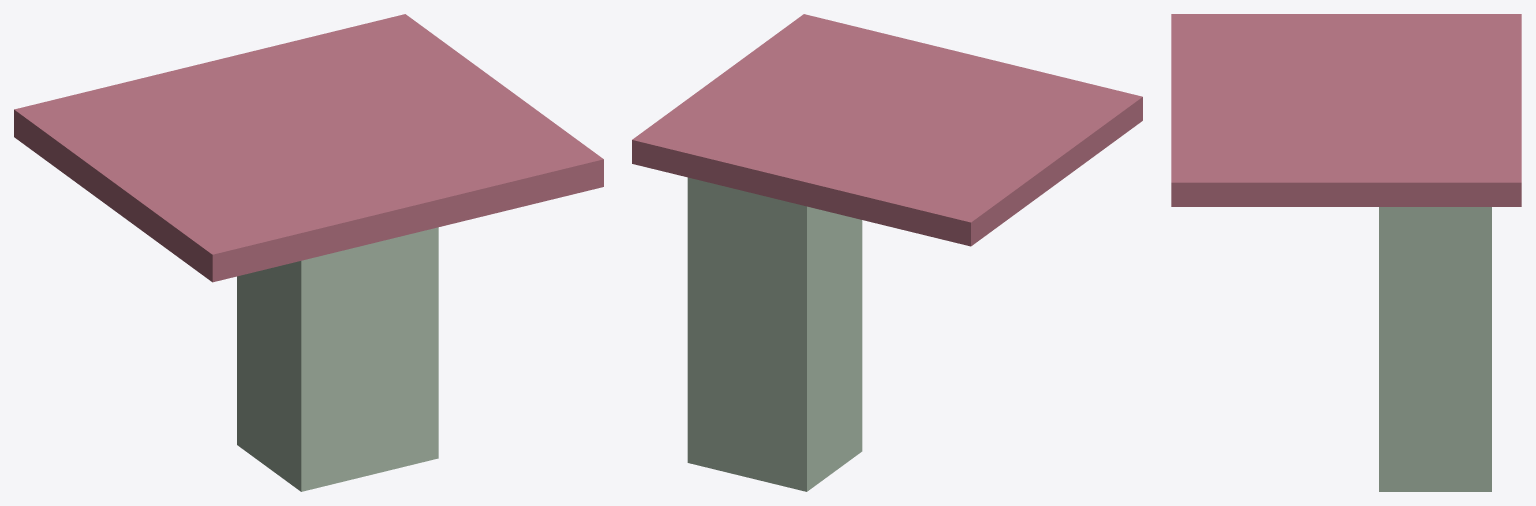
The model's file is 199513_pred.glb.
3 renders of one model, left to right at view 1: azimuth 30°, elevation 25°; view 2: azimuth 150°, elevation 25°; view 3: azimuth 270°, elevation 25°, orthographic. The views are drawn at different scales.
Visible parts, largest first — view 1: world; view 2: world; view 3: world.
Boxes of the visible parts, x1=… form: world: x1=14, y1=14, x2=603, y2=491; world: x1=632, y1=14, x2=1142, y2=491; world: x1=1171, y1=14, x2=1521, y2=491.
Size of the model in its own units: 7.4 by 6.75 by 6.5.
